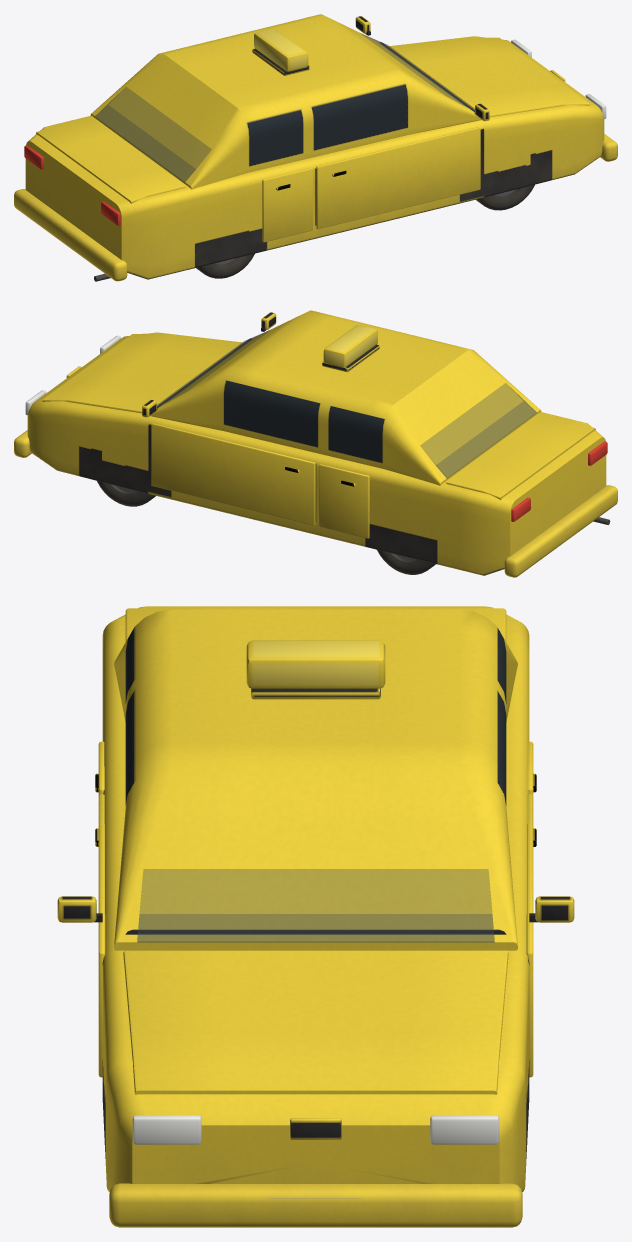
File: taxi-amarelo.glb
The picture shows the model from 3 angles, top to bottom: view 1: azimuth 30°, elevation 25°; view 2: azimuth 150°, elevation 25°; view 3: azimuth 270°, elevation 25°; orthographic projection. The views are drawn at different scales.
Visible parts, largest first — view 1: body, door_fr, hood, trunk, glass_rear, door_rr, bumper_rear, glass_windshield, wheel_fr_tire, wheel_rr_tire; view 2: body, door_fl, hood, trunk, glass_rear, door_rl, bumper_rear, glass_windshield, wheel_fl_tire, wheel_rl_tire; view 3: body, hood, glass_windshield, bumper_front, headlight_left, headlight_right, door_fl, door_fr, trunk.
Boxes of the visible parts, left/top/right/bottom form: body: left=25, top=14, right=604, bottom=281; door_fr: left=316, top=127, right=480, bottom=229; hood: left=388, top=37, right=589, bottom=116; trunk: left=36, top=116, right=185, bottom=203; glass_rear: left=95, top=87, right=211, bottom=182; door_rr: left=262, top=168, right=312, bottom=242; bumper_rear: left=14, top=189, right=127, bottom=281; glass_windshield: left=360, top=33, right=474, bottom=110; wheel_fr_tire: left=476, top=184, right=534, bottom=210; wheel_rr_tire: left=196, top=253, right=254, bottom=278; body: left=27, top=310, right=610, bottom=575; door_fl: left=151, top=423, right=315, bottom=525; hood: left=42, top=333, right=243, bottom=413; trunk: left=446, top=413, right=595, bottom=499; glass_rear: left=420, top=383, right=536, bottom=478; door_rl: left=319, top=464, right=369, bottom=538; bumper_rear: left=504, top=485, right=617, bottom=577; glass_windshield: left=157, top=329, right=271, bottom=406; wheel_fl_tire: left=97, top=481, right=155, bottom=506; wheel_rl_tire: left=377, top=550, right=435, bottom=574; body: left=57, top=606, right=574, bottom=1198; hood: left=123, top=950, right=508, bottom=1094; glass_windshield: left=137, top=869, right=494, bottom=942; bumper_front: left=109, top=1183, right=522, bottom=1227; headlight_left: left=430, top=1115, right=499, bottom=1144; headlight_right: left=132, top=1115, right=201, bottom=1144; door_fl: left=526, top=794, right=536, bottom=1077; door_fr: left=95, top=794, right=105, bottom=1077; trunk: left=125, top=608, right=506, bottom=641.
Size of what is drawn, in the model's own units: 5.09 by 1.66 by 2.24.
Materials: 6 (5 with a texture image).
